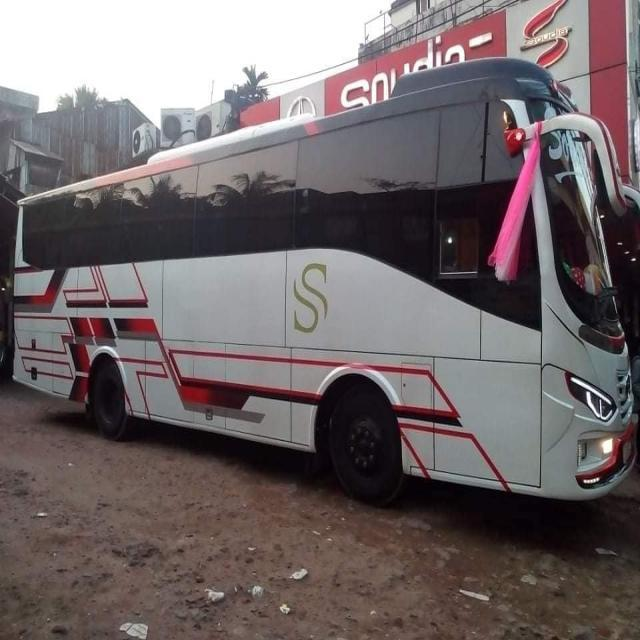Bus: (11, 59, 640, 545)
